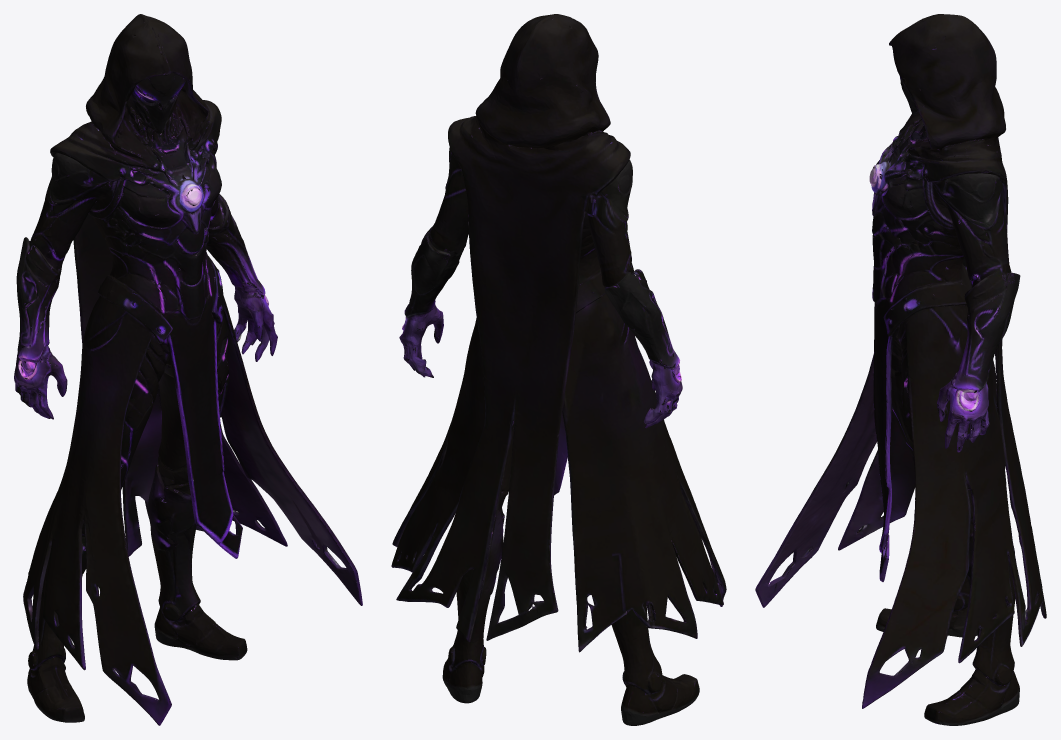
File: nyx-gameplay.glb
3 views of the same model, side by side, from view 1: azimuth 30°, elevation 25°; view 2: azimuth 150°, elevation 25°; view 3: azimuth 270°, elevation 25° (orthographic). The views are drawn at different scales.
Parts seen in each view (by area): view 1: world; view 2: world; view 3: world.
Boxes of the visible parts, x1,y1,x2,y2 form: world: (14, 14, 362, 725); world: (391, 14, 726, 725); world: (755, 14, 1046, 725).
Bounding box in the file's own units: 0.9648 × 2 × 0.7916.
Materials: 1 (1 with a texture image).
